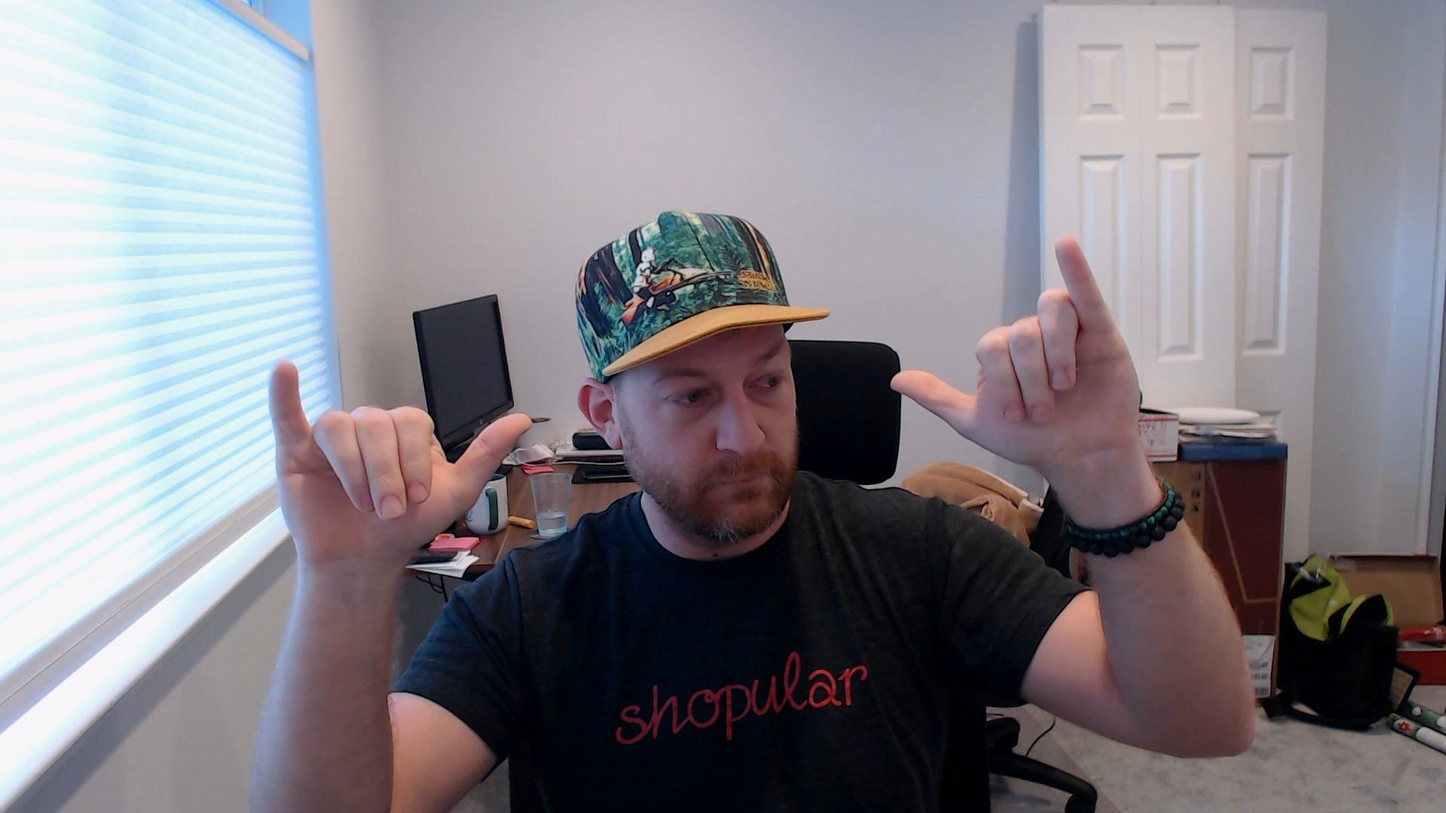face: (613, 329, 798, 547)
